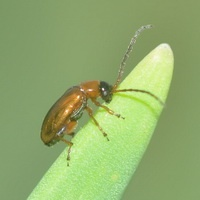insect: (41, 25, 163, 165)
